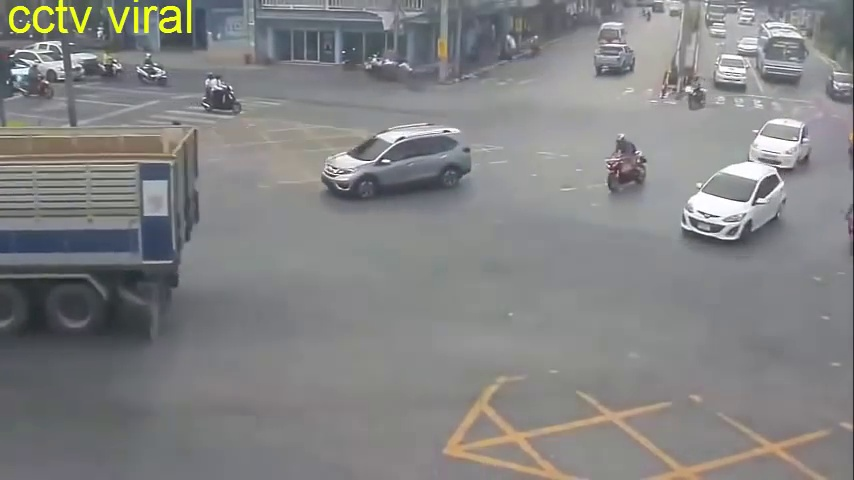car: (316, 122, 473, 200), (682, 162, 785, 243), (750, 118, 810, 173), (759, 23, 804, 86), (713, 54, 745, 91), (596, 45, 634, 75), (597, 20, 624, 52), (829, 70, 850, 105)
motorbike: (607, 135, 646, 191), (201, 74, 241, 115), (17, 67, 51, 100), (139, 54, 166, 84), (687, 77, 708, 113), (100, 53, 122, 79)
